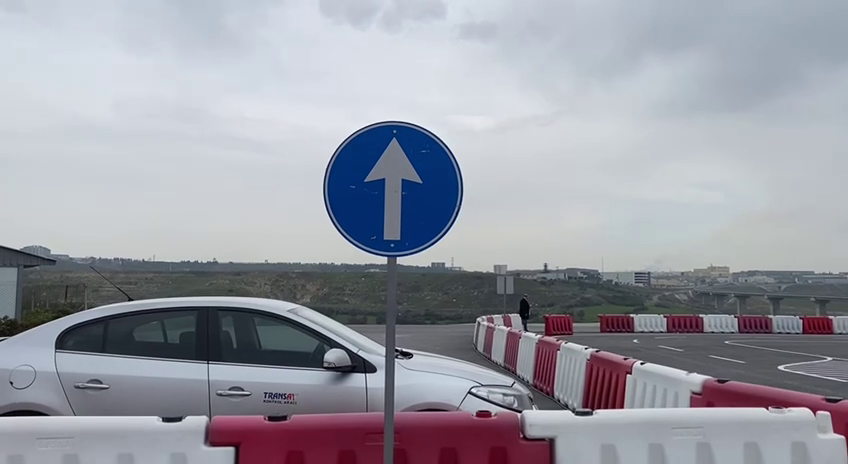forward: (318, 115, 468, 262)
